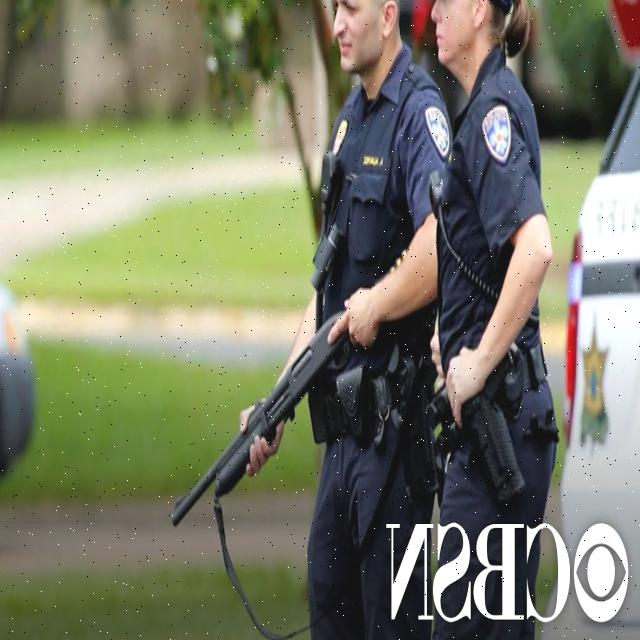police: (160, 0, 444, 640), (386, 0, 560, 583)
